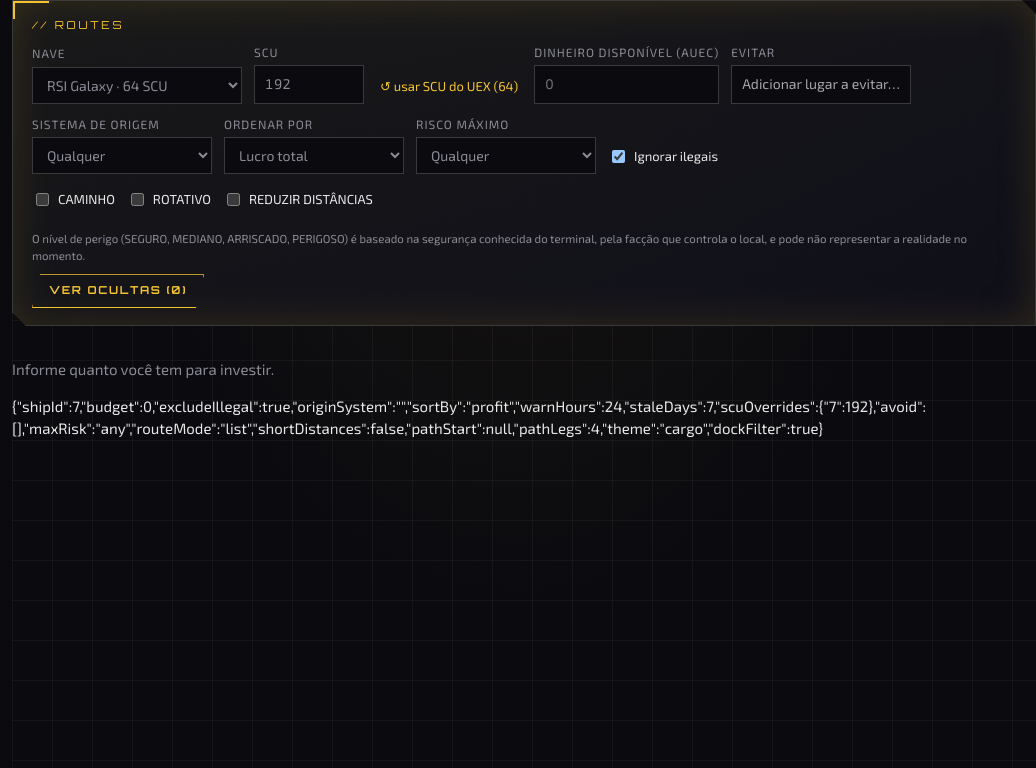
Test: ajustes do campo SCU e do saldo › apagar o SCU remove o valor digitado e volta ao do UEX ao sair do campo
Clear the field labelled "SCU". click: (309, 84)
box: [254,65,364,104]
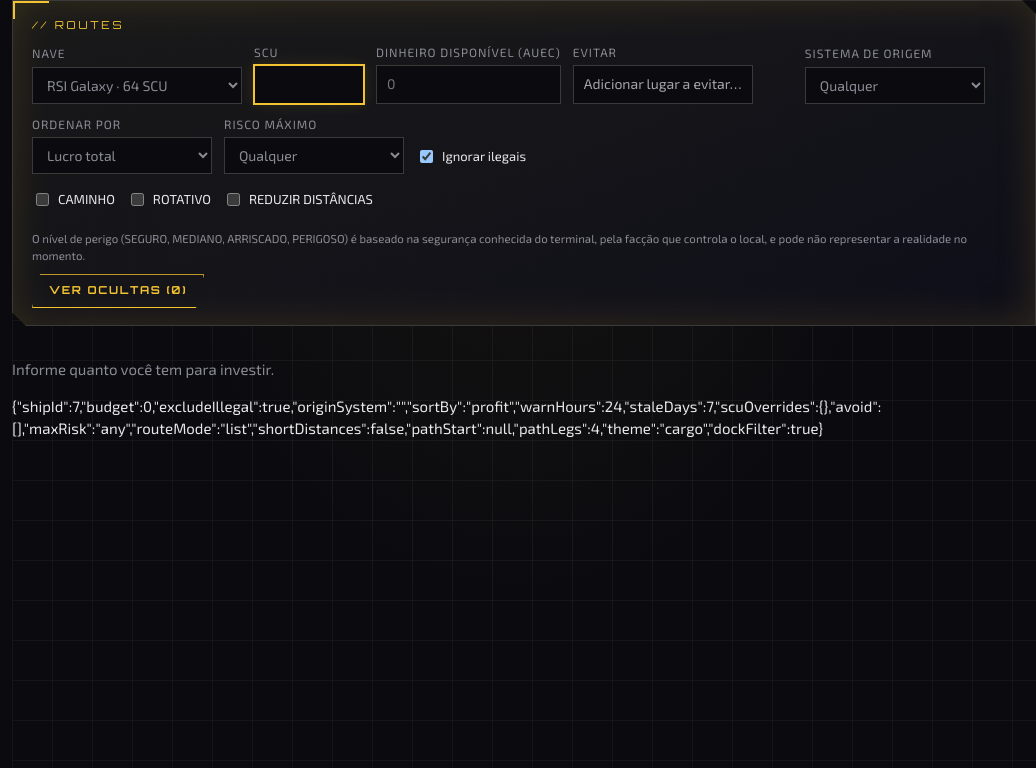
Press Tab
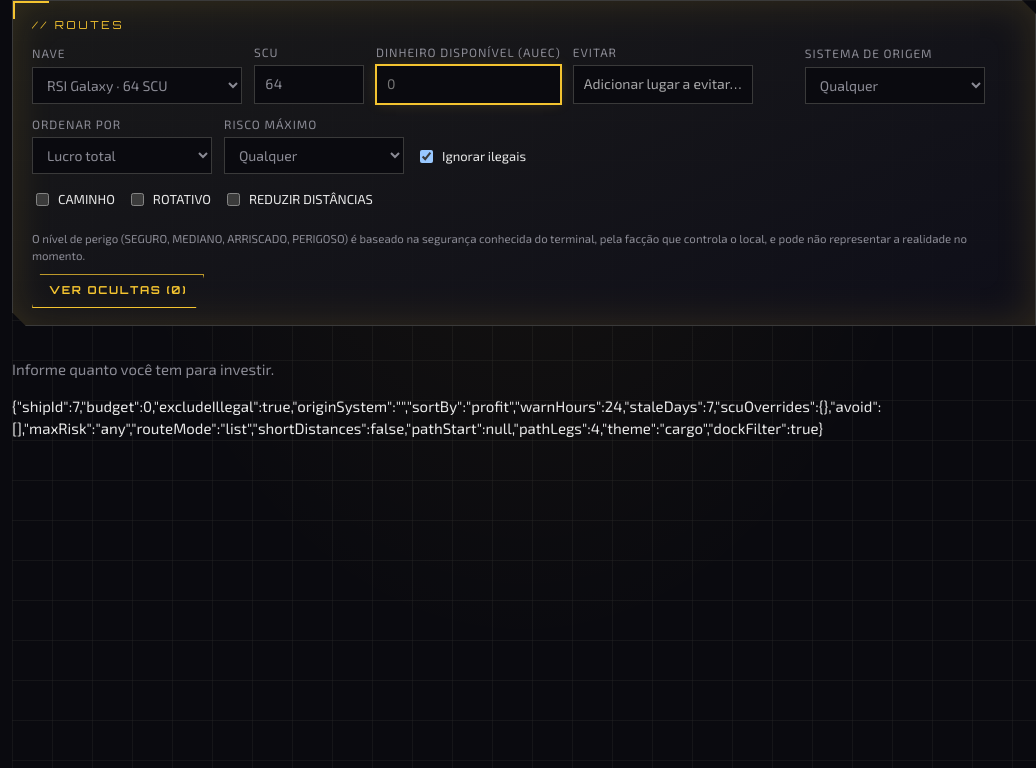
Now the field labelled "SCU" holds "64", box [254,65,364,104]
